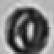correct: (4, 5, 50, 52)
